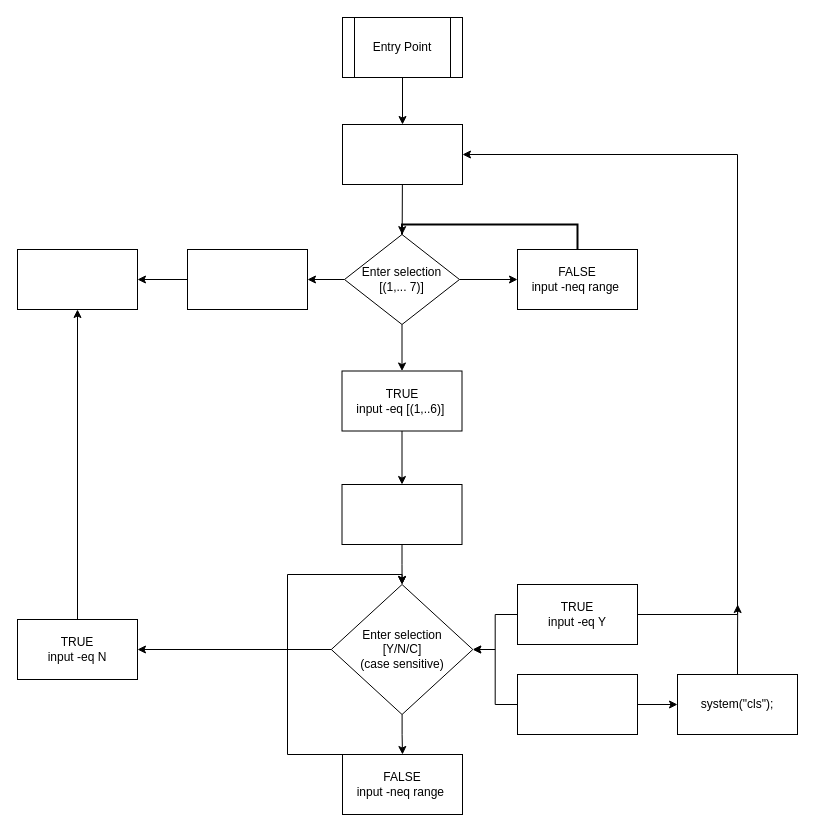
Image size: 815x832. Some labels were removed from this diagram. The shapes that lost their labels are listed below. From the top down, each one's box as (x1, y1, x2, y2) in pixels, then its label:
(342, 124, 462, 184): printMenu()
(16, 248, 138, 310): Application exit
(186, 248, 308, 310): TRUE input -eq 7]
(341, 484, 462, 544): toContinue()
(516, 674, 638, 734): TRUE input -eq C
